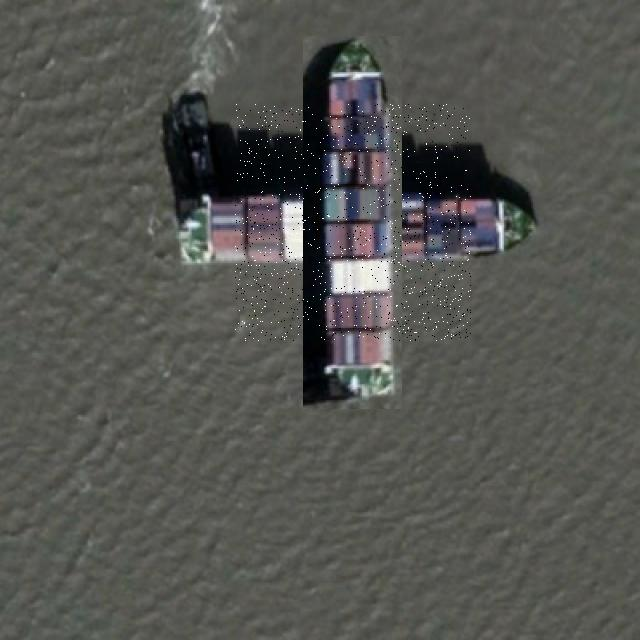boat: (235, 104, 471, 341)
